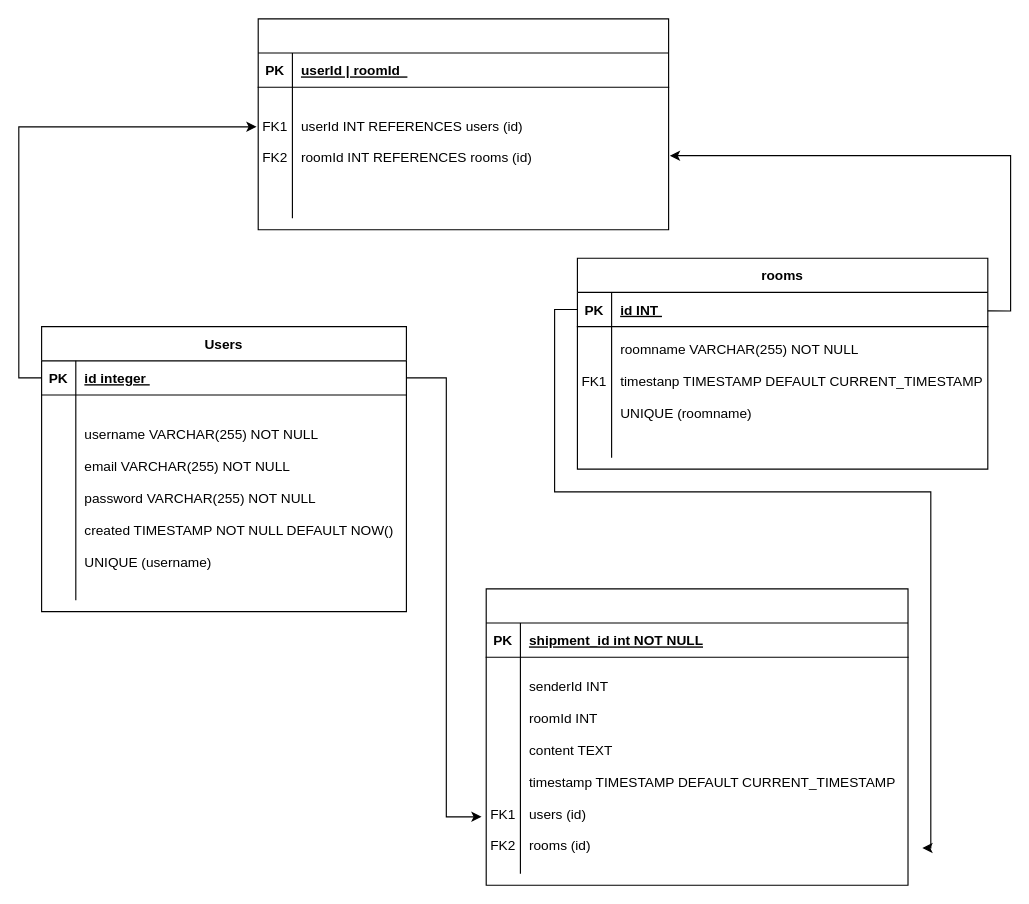
The diagram is 1029 pixels wide and 904 high, and some of its shapes have lost their labels. The shapes that lost their labels are listed below. From the top down, each one's box as (x1, y1, x2, y2) in pixels, then its label:
(257, 18, 669, 230): user_room
(485, 588, 908, 885): messages
